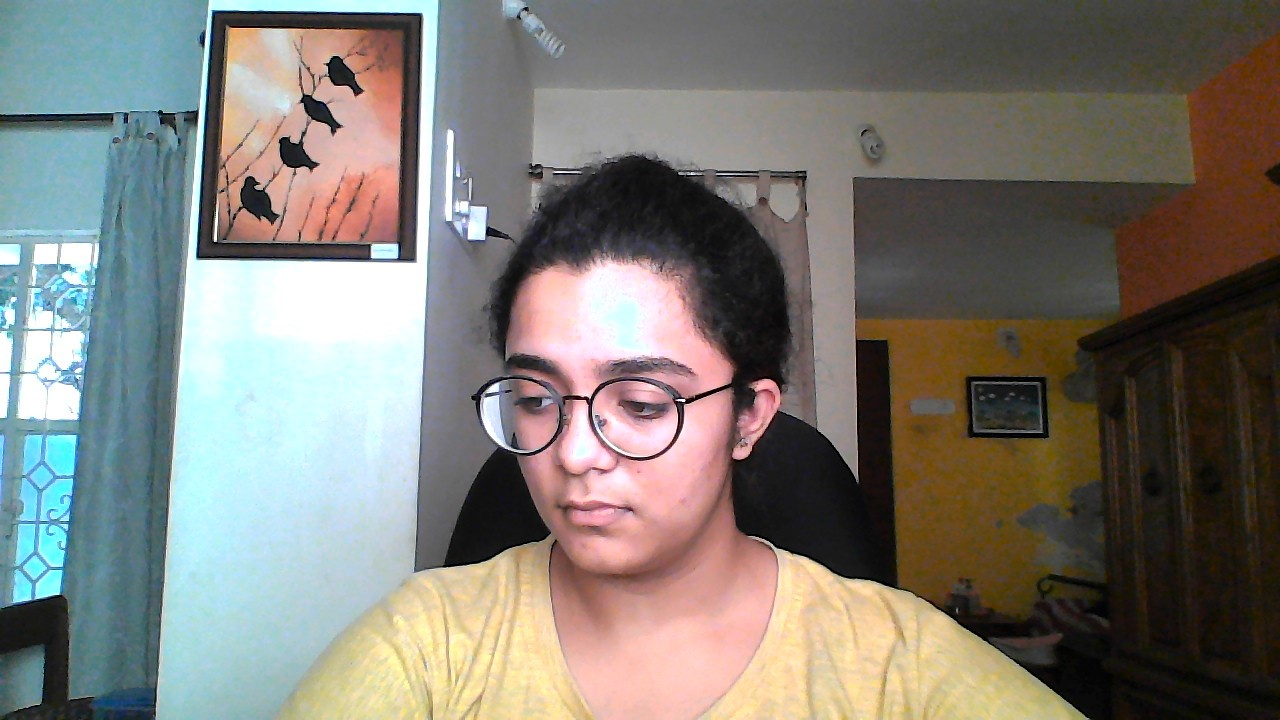person: (381, 101, 904, 720)
